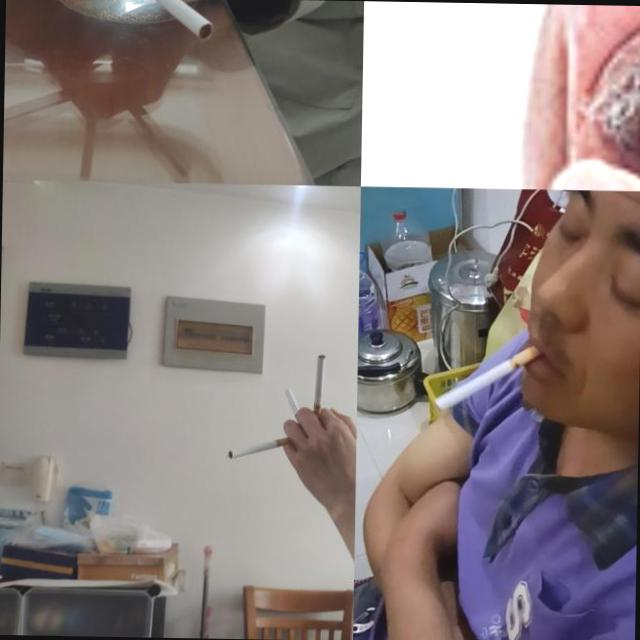smoke: (436, 344, 542, 414), (113, 0, 216, 41), (228, 436, 292, 460), (284, 388, 308, 432), (312, 354, 326, 424)
